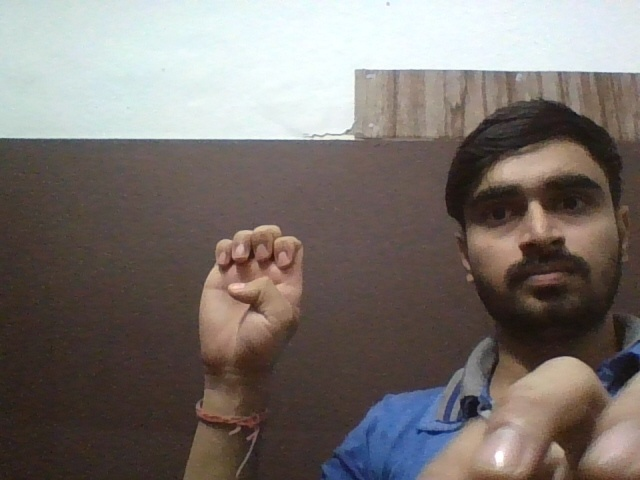E: (176, 223, 334, 371)
